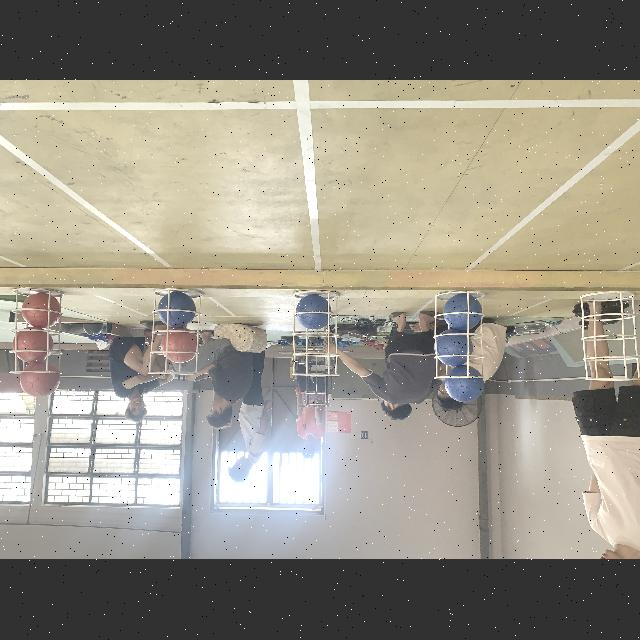B: (446, 366, 484, 404), (434, 330, 472, 368), (158, 290, 196, 328), (443, 294, 481, 330), (296, 296, 330, 330)
R: (11, 328, 53, 364), (23, 292, 61, 328), (161, 329, 197, 363)
